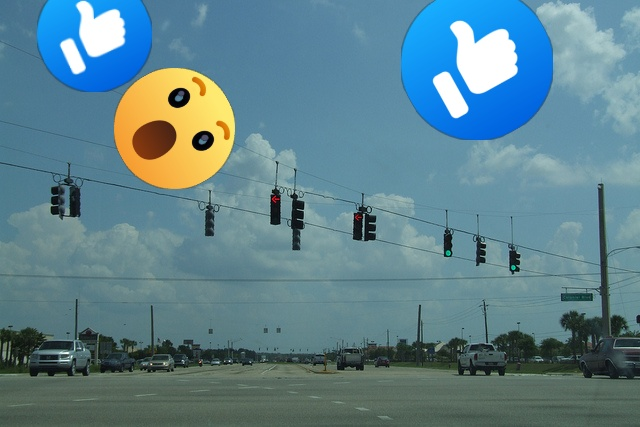like: (401, 0, 553, 140), (37, 0, 152, 92)
wow: (114, 68, 235, 189)
